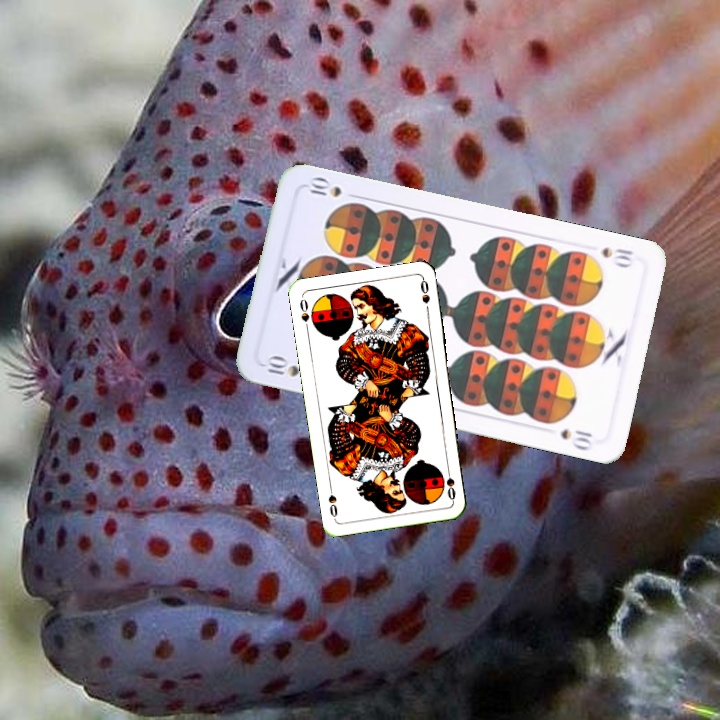S10: (259, 353, 302, 379), (598, 243, 636, 270)
SO: (442, 462, 458, 503), (296, 293, 312, 334)
